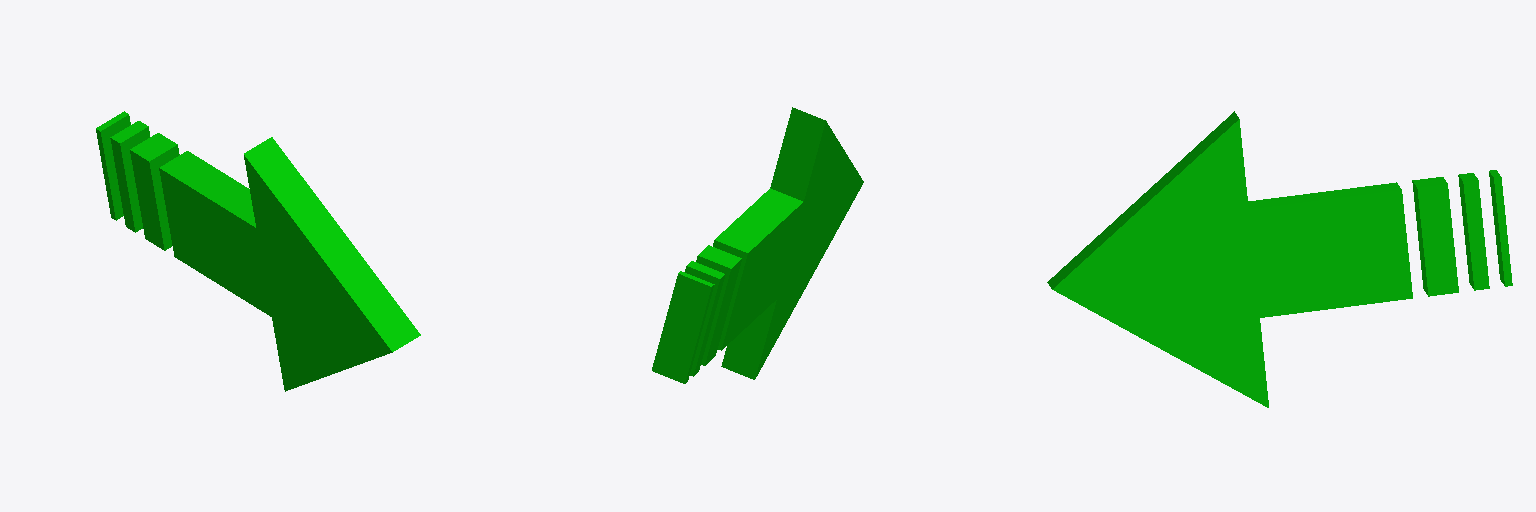
File: arrow_right.obj
The picture shows the model from 3 angles: view 1: azimuth 30°, elevation 25°; view 2: azimuth 150°, elevation 25°; view 3: azimuth 270°, elevation 25°; orthographic projection.
Parts seen in each view (by area): view 1: Cube; view 2: Cube; view 3: Cube.
Part boxes in pixels (x1,y1,x2,y2): Cube: (96, 111, 420, 391); Cube: (652, 107, 863, 383); Cube: (1047, 111, 1512, 407).
Bounding box in the file's own units: 0.6445 × 1.6 × 2.5.